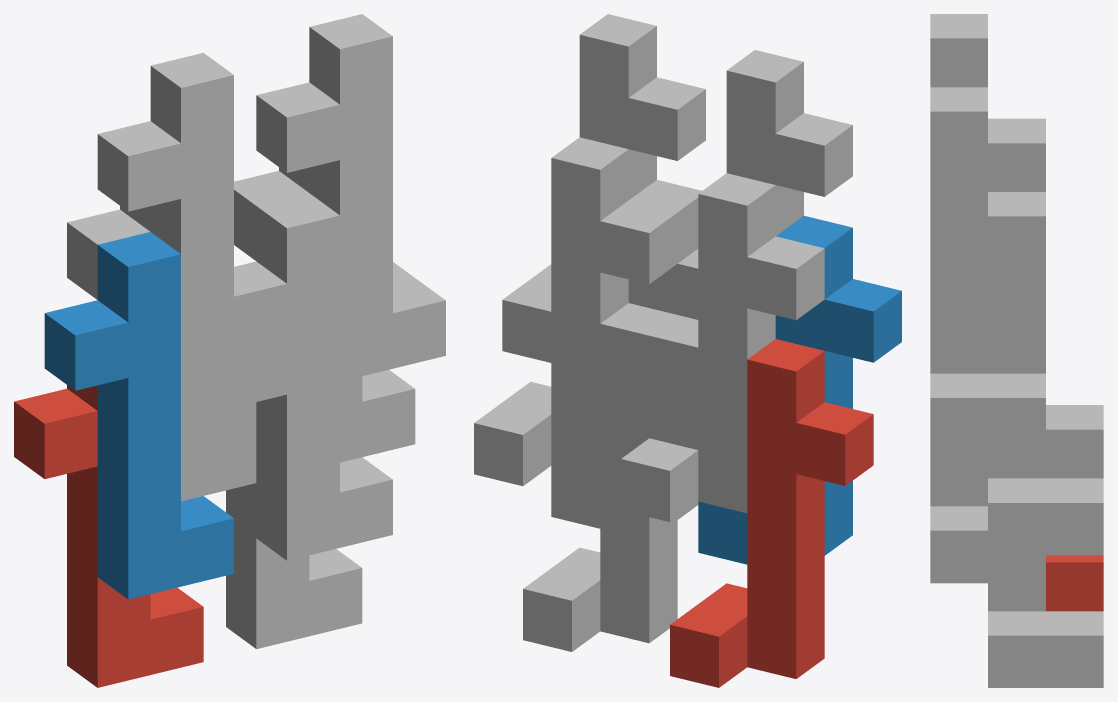
Rendered from tiling.obj.
The picture shows the model from 3 angles, left to right: view 1: azimuth 30°, elevation 25°; view 2: azimuth 150°, elevation 25°; view 3: azimuth 270°, elevation 25°; orthographic projection. The views are drawn at different scales.
Parts seen in each view (by area): view 1: copy_1_domain_2, copy_1_domain_6, copy_1_domain_8, copy_1_domain_4, copy_1_domain_1, copy_1_domain_5, copy_1_domain_7, copy_1_domain_3; view 2: copy_1_domain_1, copy_1_domain_7, copy_1_domain_3, copy_1_domain_5, copy_1_domain_8, copy_1_domain_4, copy_1_domain_2, copy_1_domain_6; view 3: copy_1_domain_8, copy_1_domain_7, copy_1_domain_5, copy_1_domain_6, copy_1_domain_3, copy_1_domain_4, copy_1_domain_1.
Boxes of the visible parts, x1,y1,x2,y2 form: copy_1_domain_2: [44, 232, 233, 599]; copy_1_domain_6: [234, 193, 392, 560]; copy_1_domain_8: [256, 14, 445, 381]; copy_1_domain_4: [97, 53, 286, 420]; copy_1_domain_1: [14, 385, 203, 687]; copy_1_domain_5: [203, 402, 362, 648]; copy_1_domain_7: [234, 167, 415, 462]; copy_1_domain_3: [67, 206, 256, 501]; copy_1_domain_1: [670, 339, 873, 687]; copy_1_domain_7: [474, 137, 677, 486]; copy_1_domain_3: [621, 173, 824, 521]; copy_1_domain_5: [523, 303, 698, 651]; copy_1_domain_8: [502, 14, 705, 362]; copy_1_domain_4: [649, 50, 852, 398]; copy_1_domain_2: [698, 215, 901, 564]; copy_1_domain_6: [551, 180, 701, 528]; copy_1_domain_8: [930, 87, 1045, 450]; copy_1_domain_7: [988, 192, 1103, 555]; copy_1_domain_5: [988, 583, 1103, 687]; copy_1_domain_6: [930, 450, 1045, 583]; copy_1_domain_3: [988, 118, 1103, 478]; copy_1_domain_4: [930, 14, 987, 87]; copy_1_domain_1: [1046, 555, 1103, 611].
Size of the model in its own units: 7 by 11 by 3.
